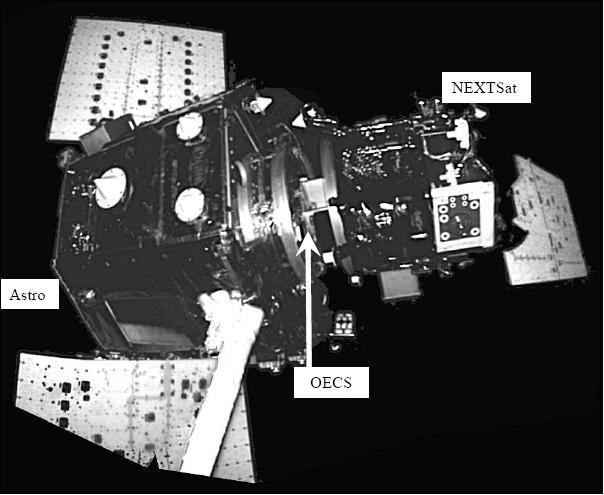antenna: (174, 185, 214, 228), (92, 165, 128, 209), (175, 110, 207, 147), (289, 103, 322, 130), (246, 90, 275, 117), (431, 96, 442, 112), (416, 99, 428, 113)
body: (51, 78, 501, 371)
solar: (15, 349, 258, 485), (44, 12, 229, 145), (501, 149, 591, 287)
